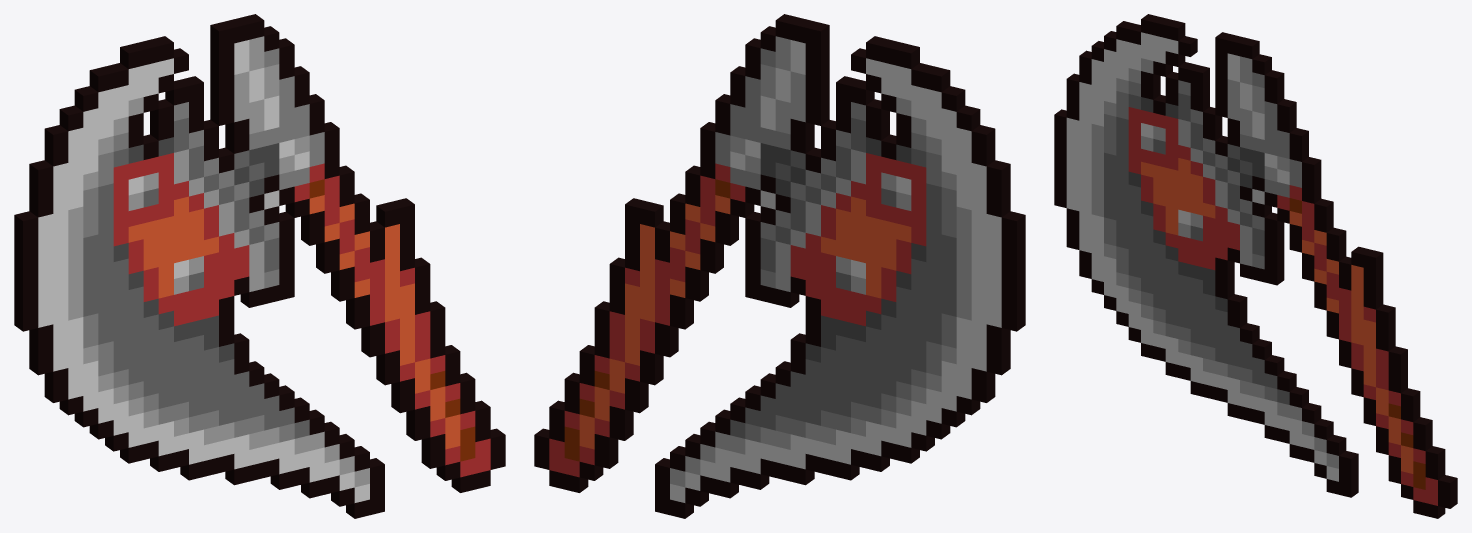
Rendered from W_Axe011.fbx.
The picture shows the model from 3 angles, left to right: view 1: azimuth 30°, elevation 25°; view 2: azimuth 150°, elevation 25°; view 3: azimuth 330°, elevation 25°; orthographic projection. The views are drawn at different scales.
Parts seen in each view (by area): view 1: Default; view 2: Default; view 3: Default.
Boxes of the visible parts, x1=… form: Default: x1=14, y1=14, x2=505, y2=518; Default: x1=534, y1=14, x2=1025, y2=518; Default: x1=1054, y1=14, x2=1457, y2=518.
Bounding box in the file's own units: 32 × 33 × 1.
Materials: 1 (1 with a texture image).
